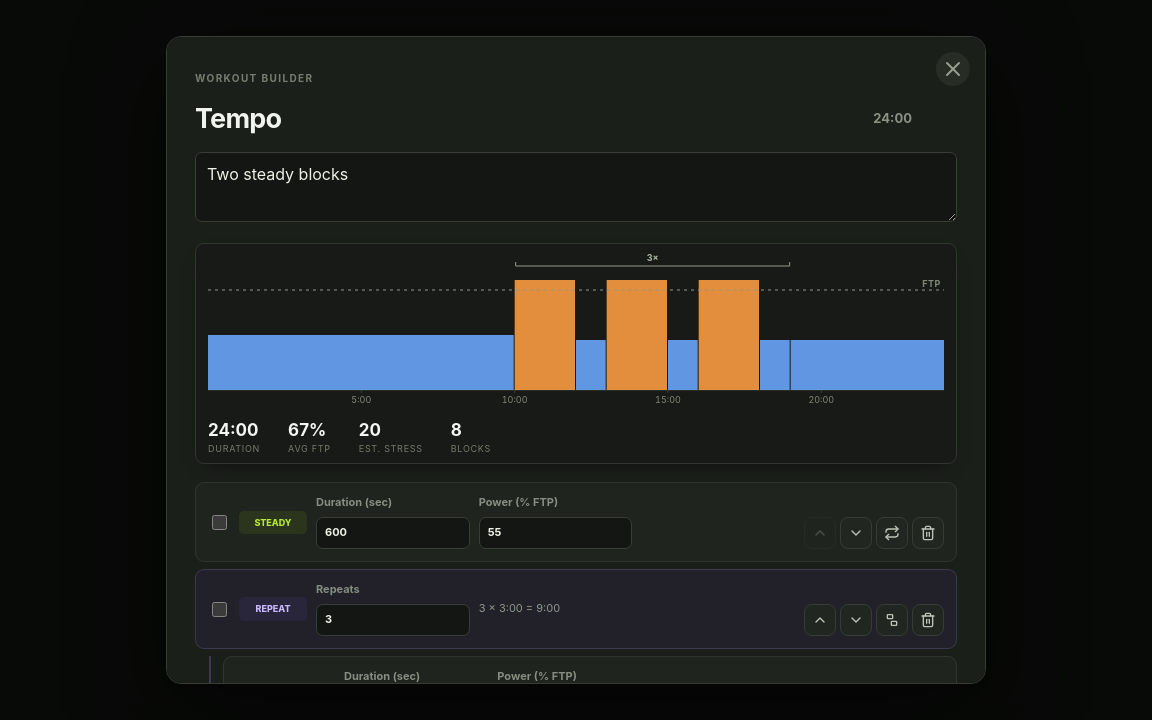
Scenario: WorkoutEditor › repeat blocks › explains an out-of-range repeat count instead of saving it
Replace the text in the number field labelled "Repeats" with "25" at (393, 620), box top-left (316, 604), bottom-right (470, 636)
(page scrolled)
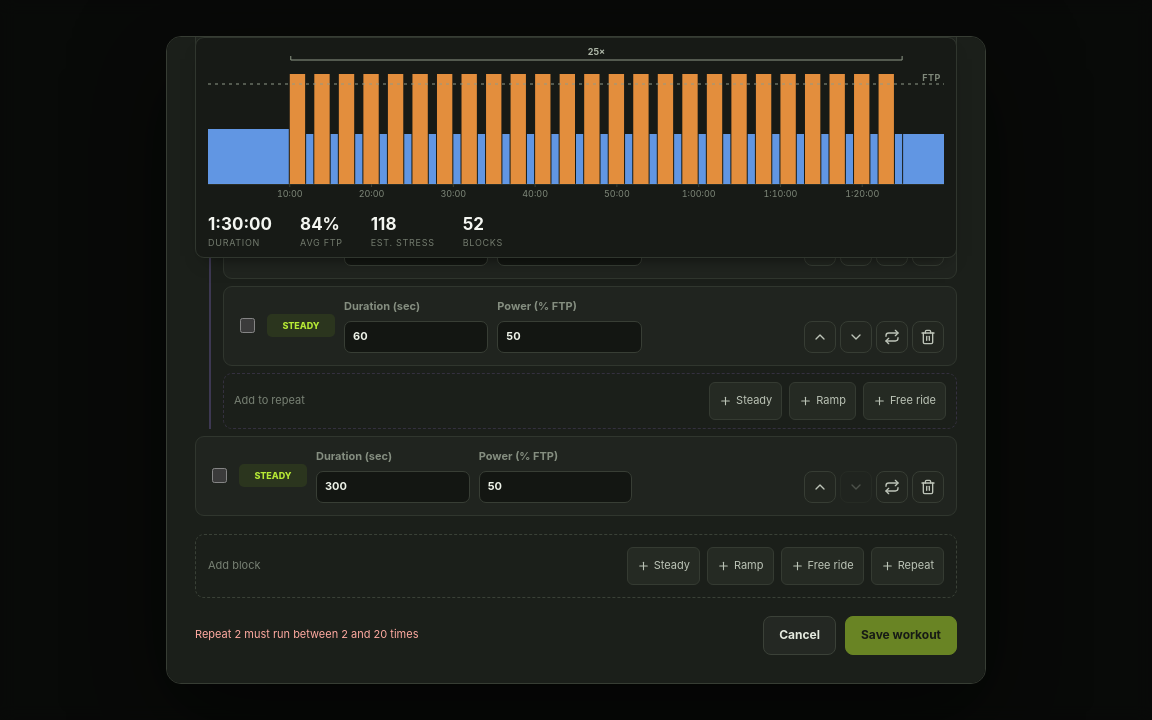
expect the message reads "Repeat 2 must run between 2 and 20 times": met, box top-left (195, 627), bottom-right (418, 641)
expect the button "Save workout" is disabled: met, box top-left (845, 616), bottom-right (957, 655)
